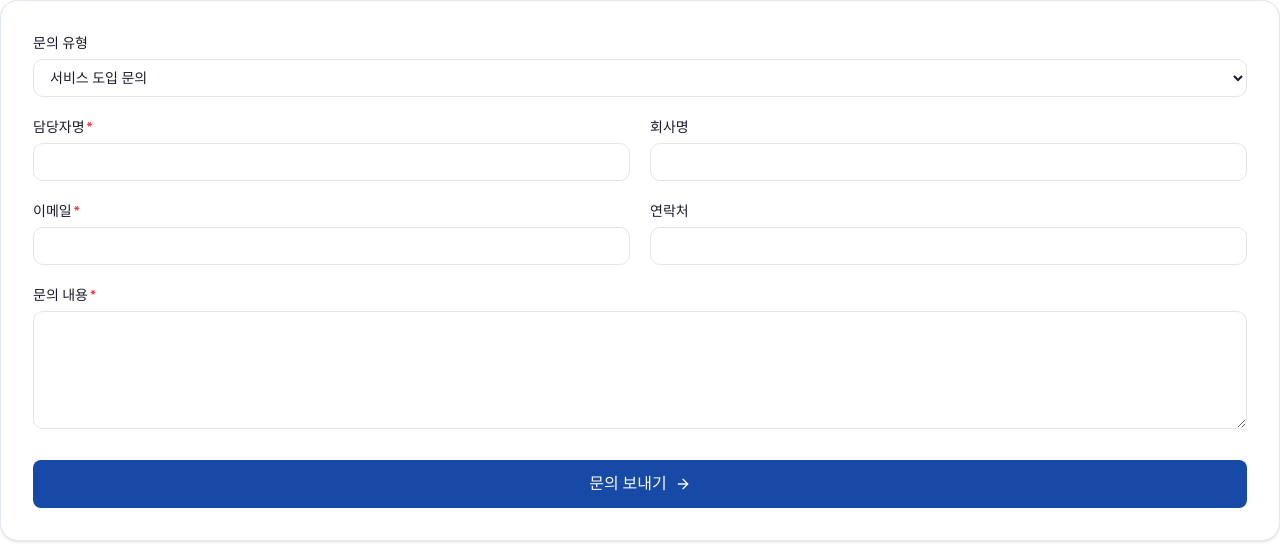
Test: ContactForm › posts to the inquiry API and shows success on valid input
Type "서동구" into the field labelled "담당자명*" at (332, 162), box [33,143,630,181]
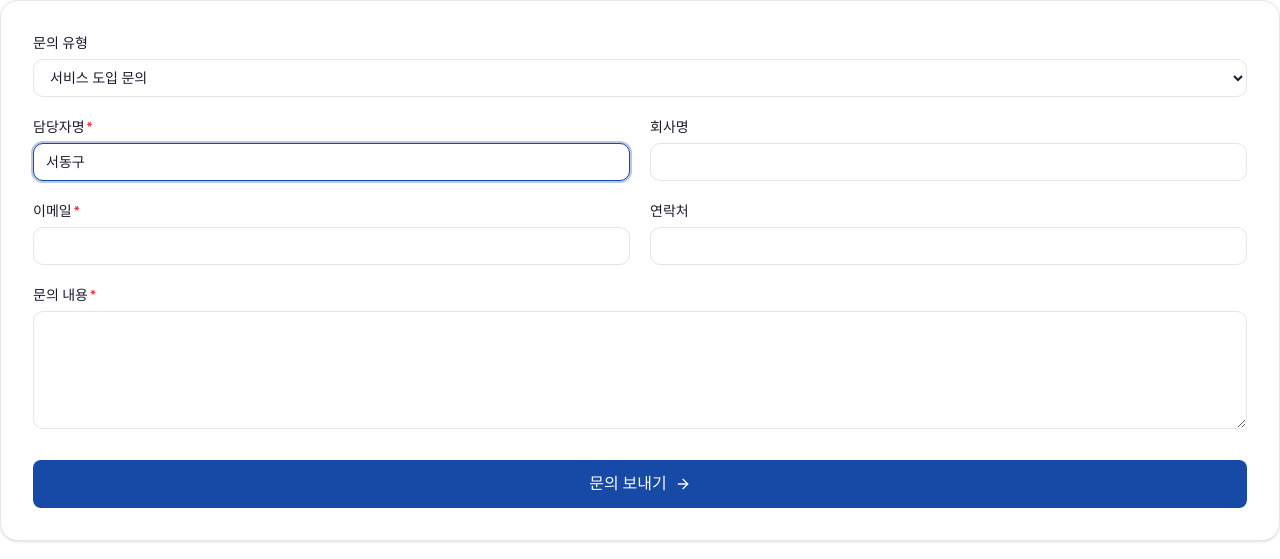
Type "a@b.com" into the field labelled "이메일*" at (332, 246), box [33,227,630,265]
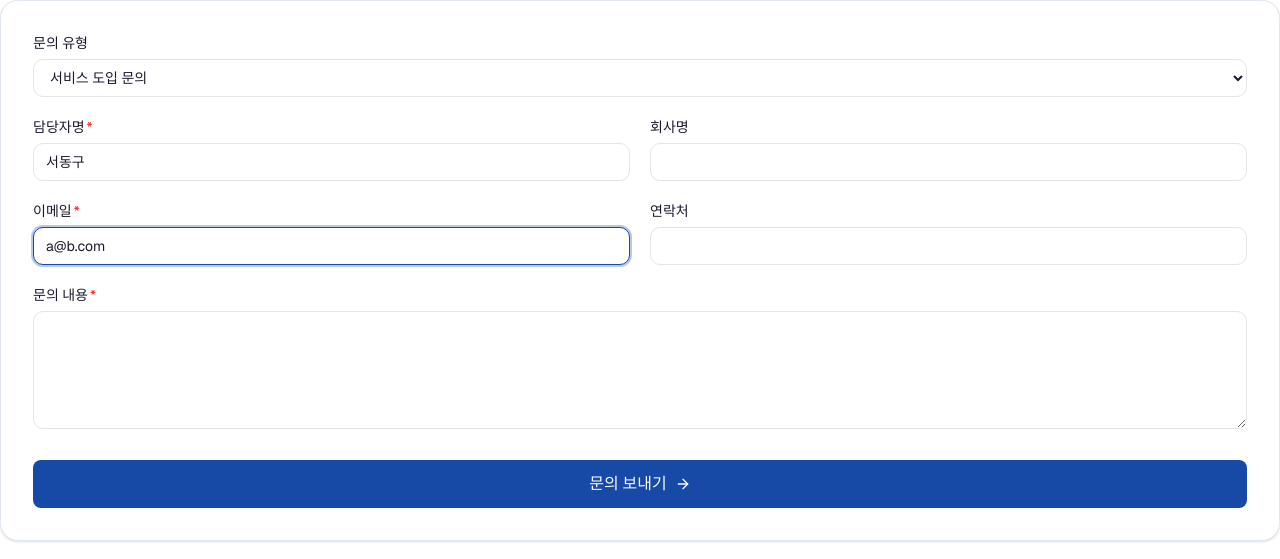
Type "서비스 도입 문의 드립니다." into the text box labelled "문의 내용*" at (640, 370), box [33,311,1247,429]
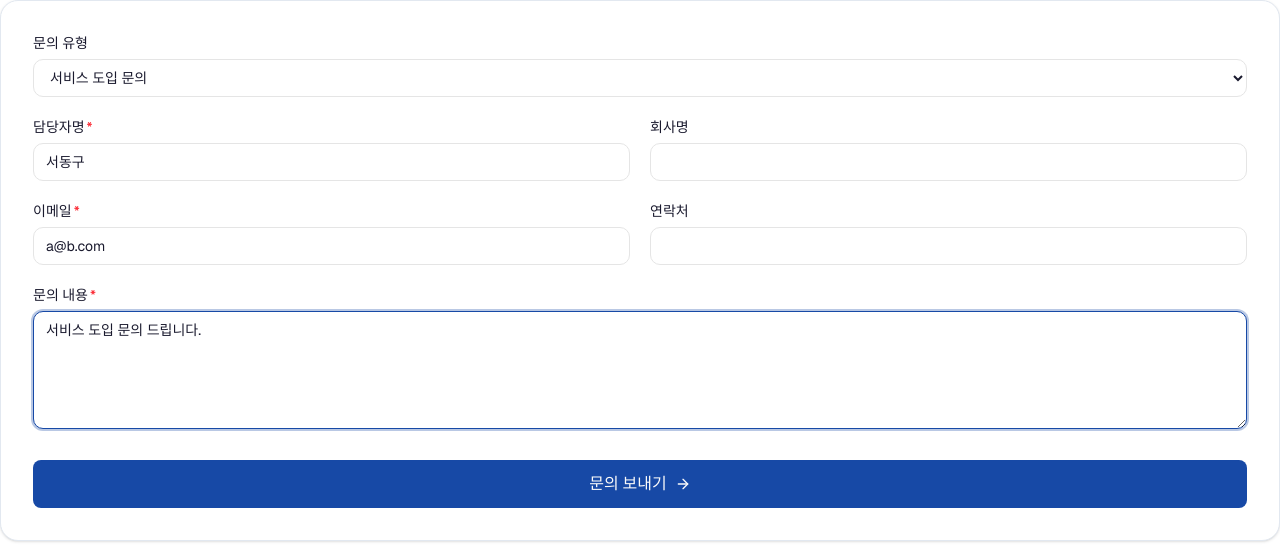
Click the button "문의 보내기" at (640, 484), box [33,460,1247,508]
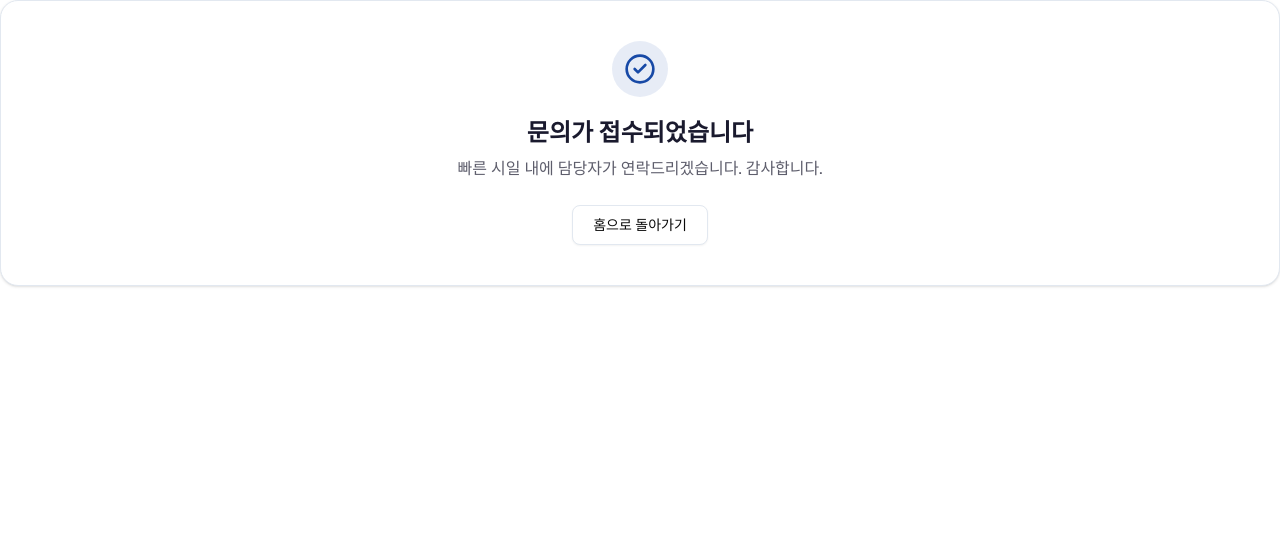
Expected: the heading "문의가 접수되었습니다" is shown, [527,117,753,148]
